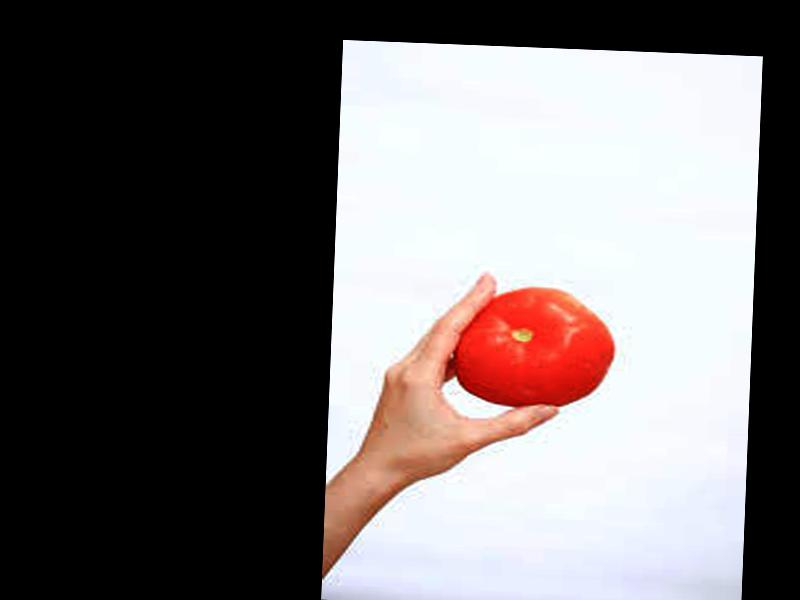Tomato: (456, 284, 615, 410)
